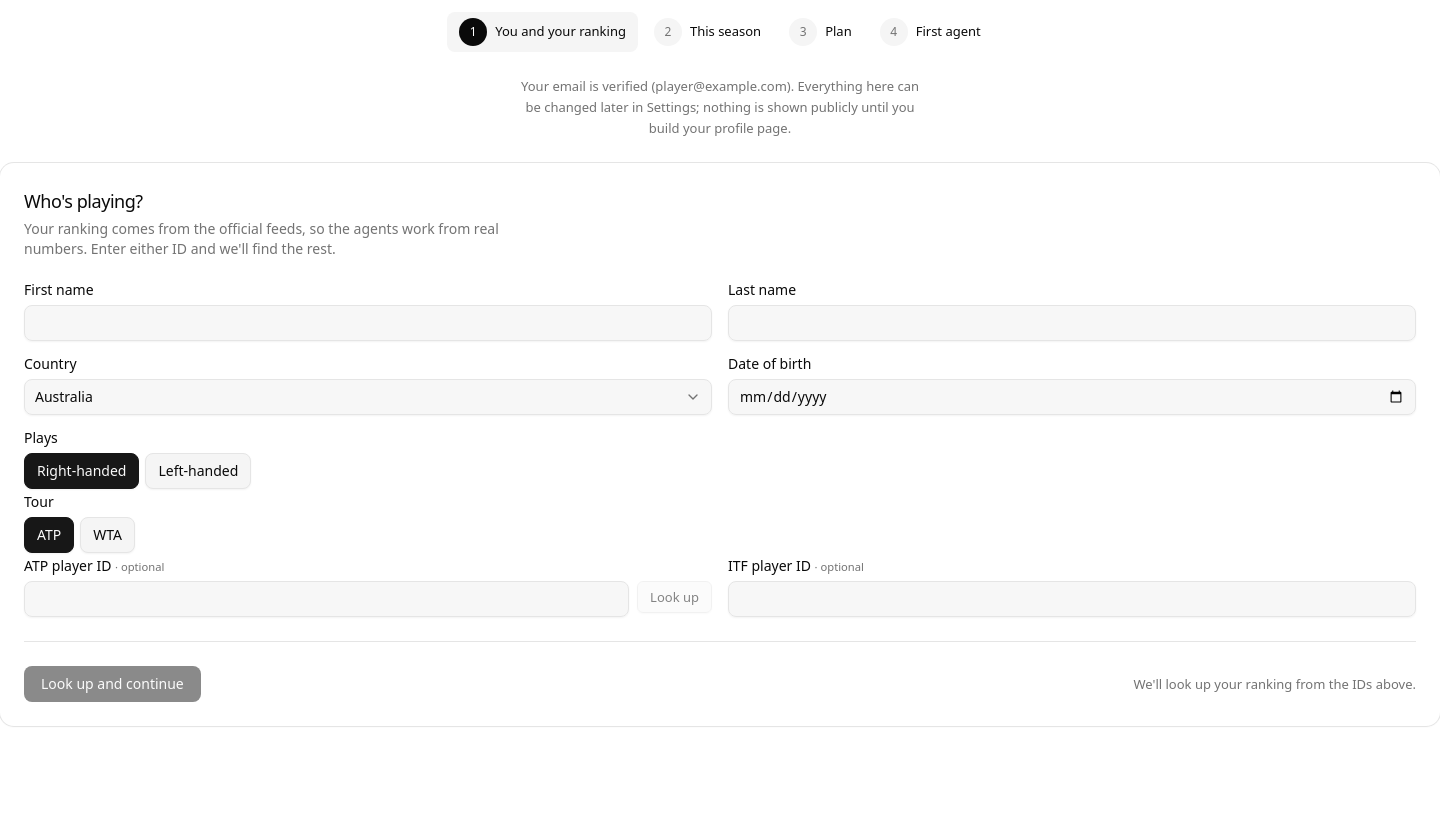
it: OnboardingWizard — guardian gate (M-ID-3, OB-6) › does not require a guardian email for an adult
Type "Arya" into the field labelled "First name".
click(368, 323); type("Arya")  # box [24, 305, 712, 341]
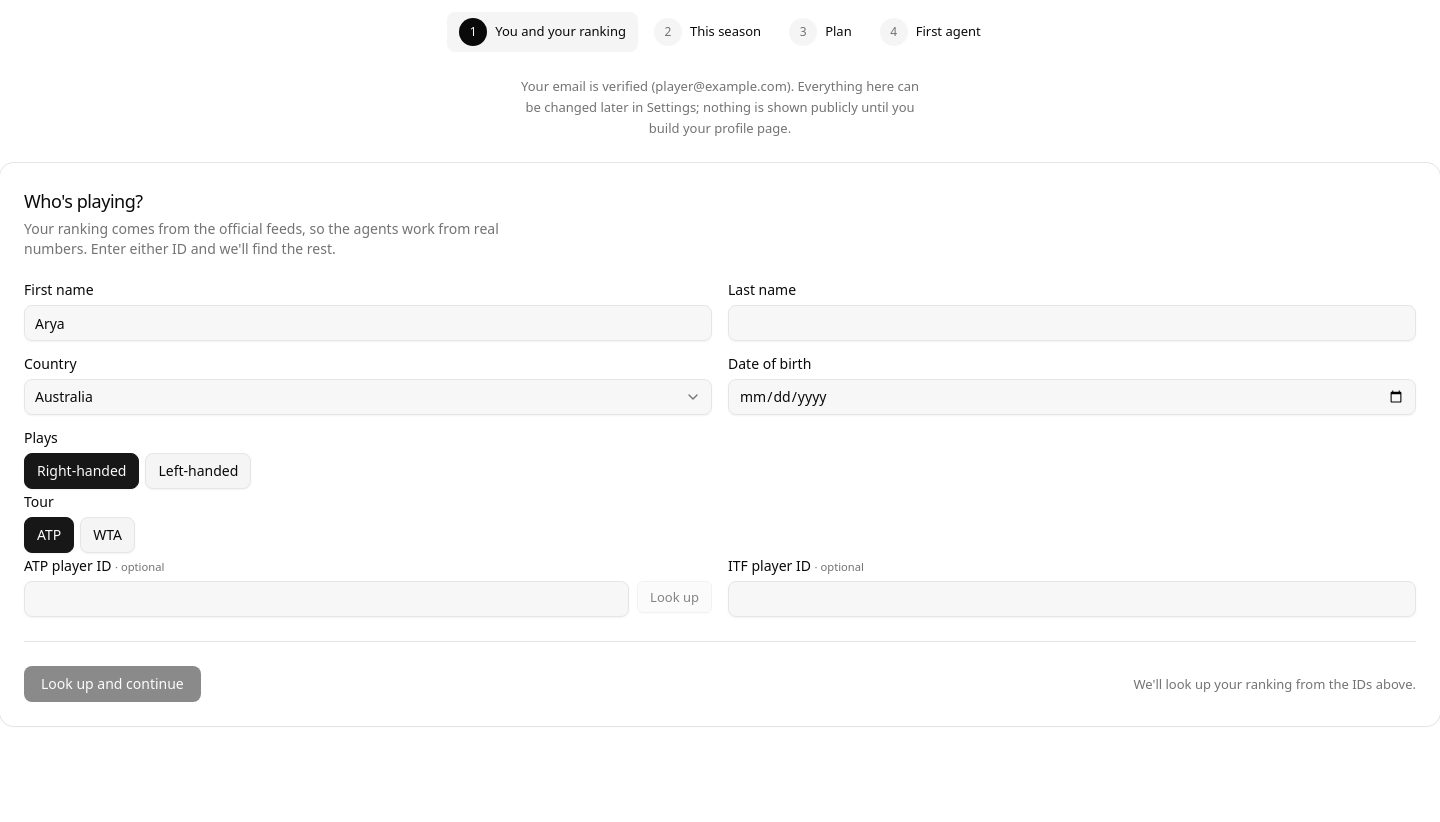
Type "Dubey" into the field labelled "Last name".
click(1072, 323); type("Dubey")  # box [728, 305, 1416, 341]
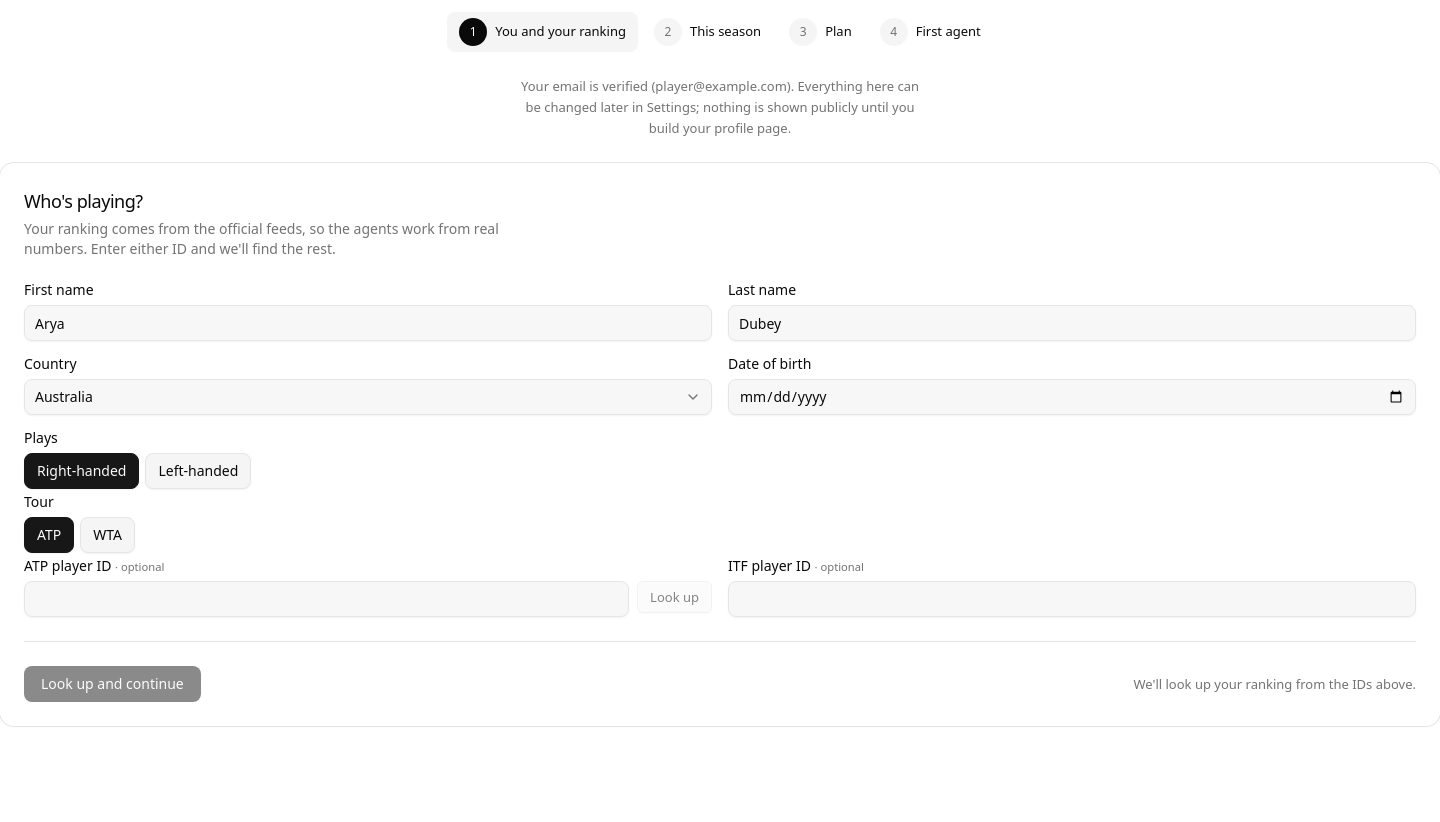
Type "1998-02-14" into the date field labelled "Date of birth".
click(1072, 397); type("1998-02-14")  # box [728, 379, 1416, 415]
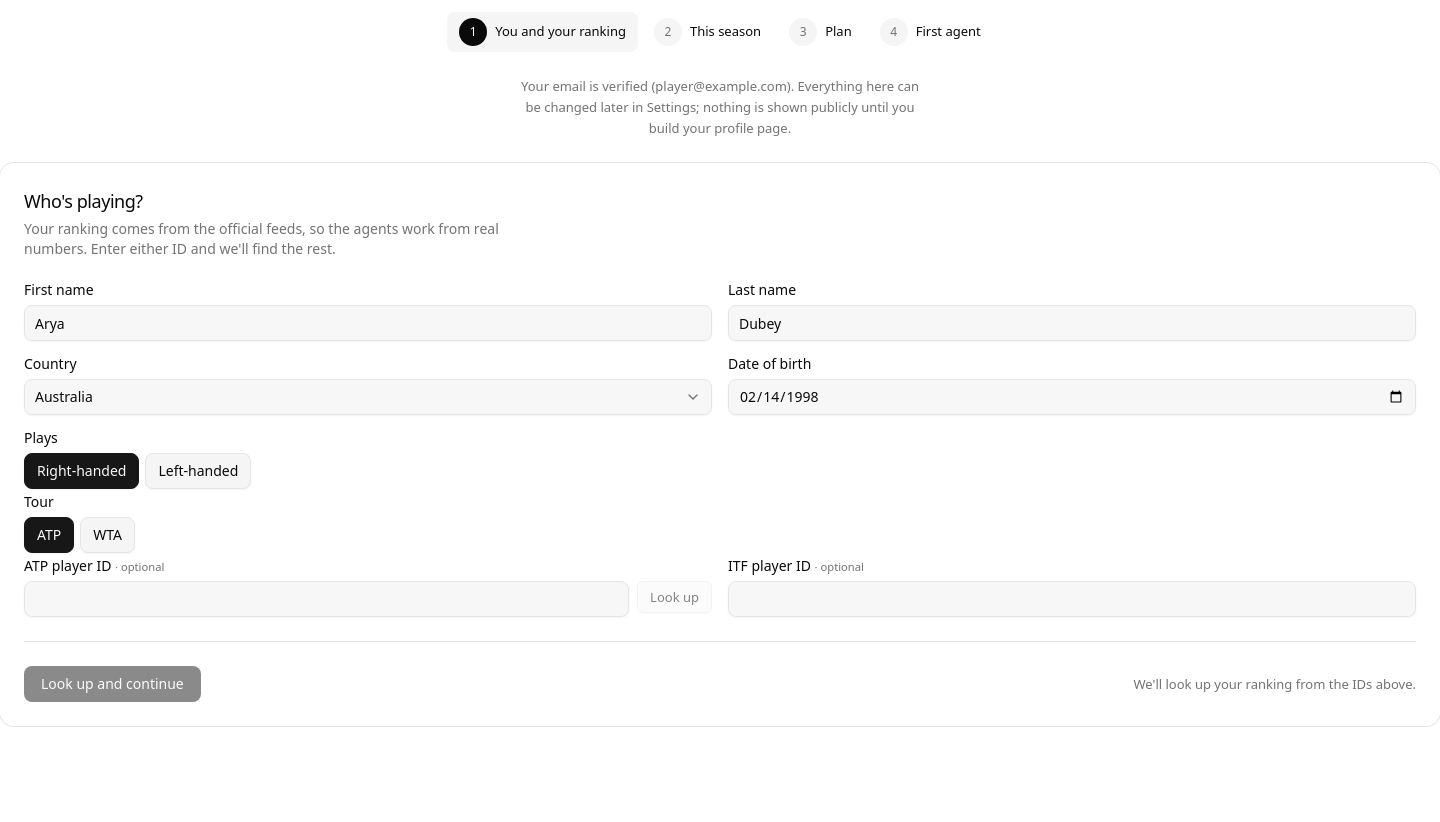
Type "B0AH" into the field labelled "ATP player ID · optional".
click(327, 599); type("B0AH")  # box [24, 581, 629, 617]
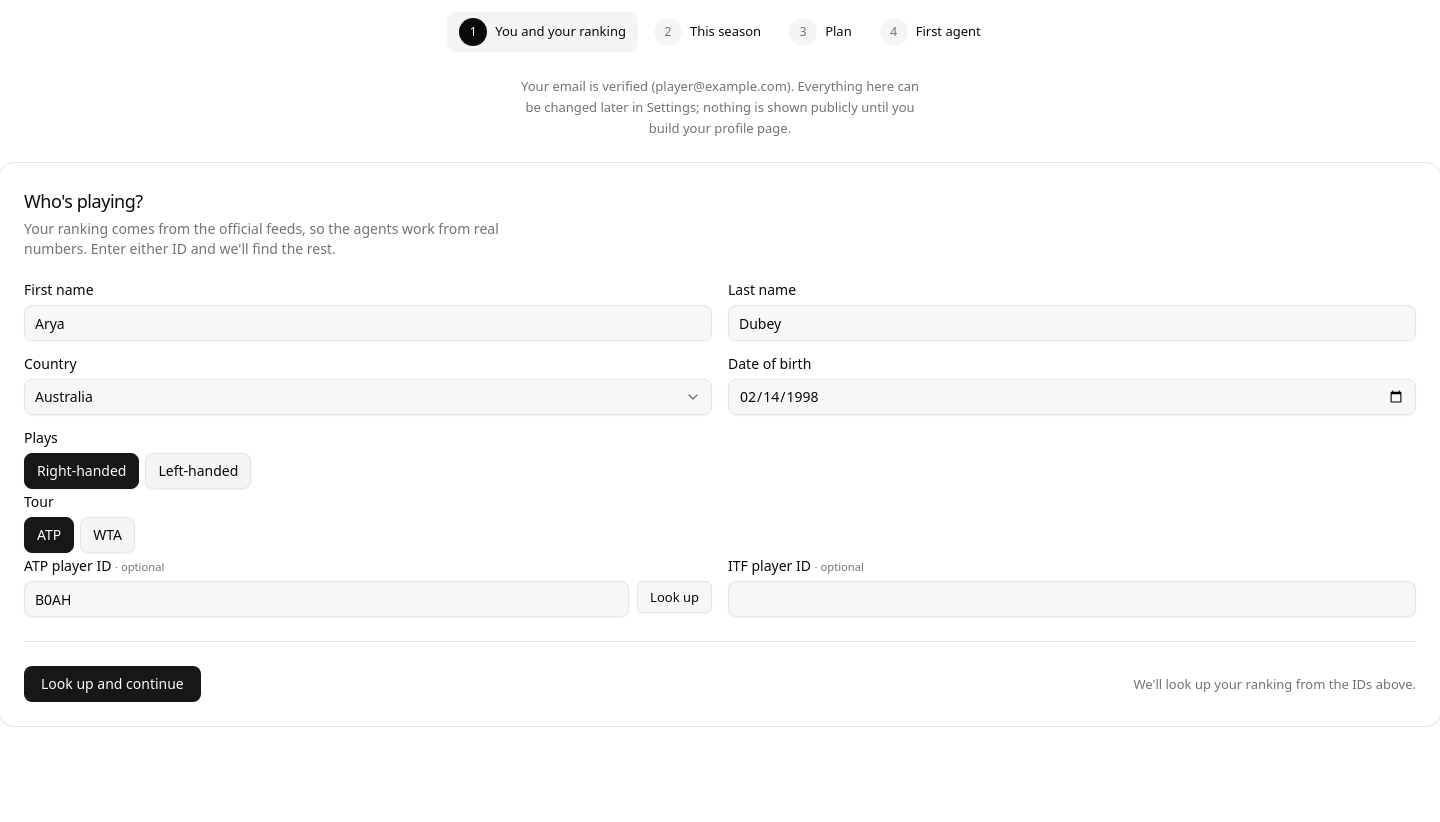
Click the button "Look up and continue".
click(112, 684)  # box [24, 666, 201, 702]
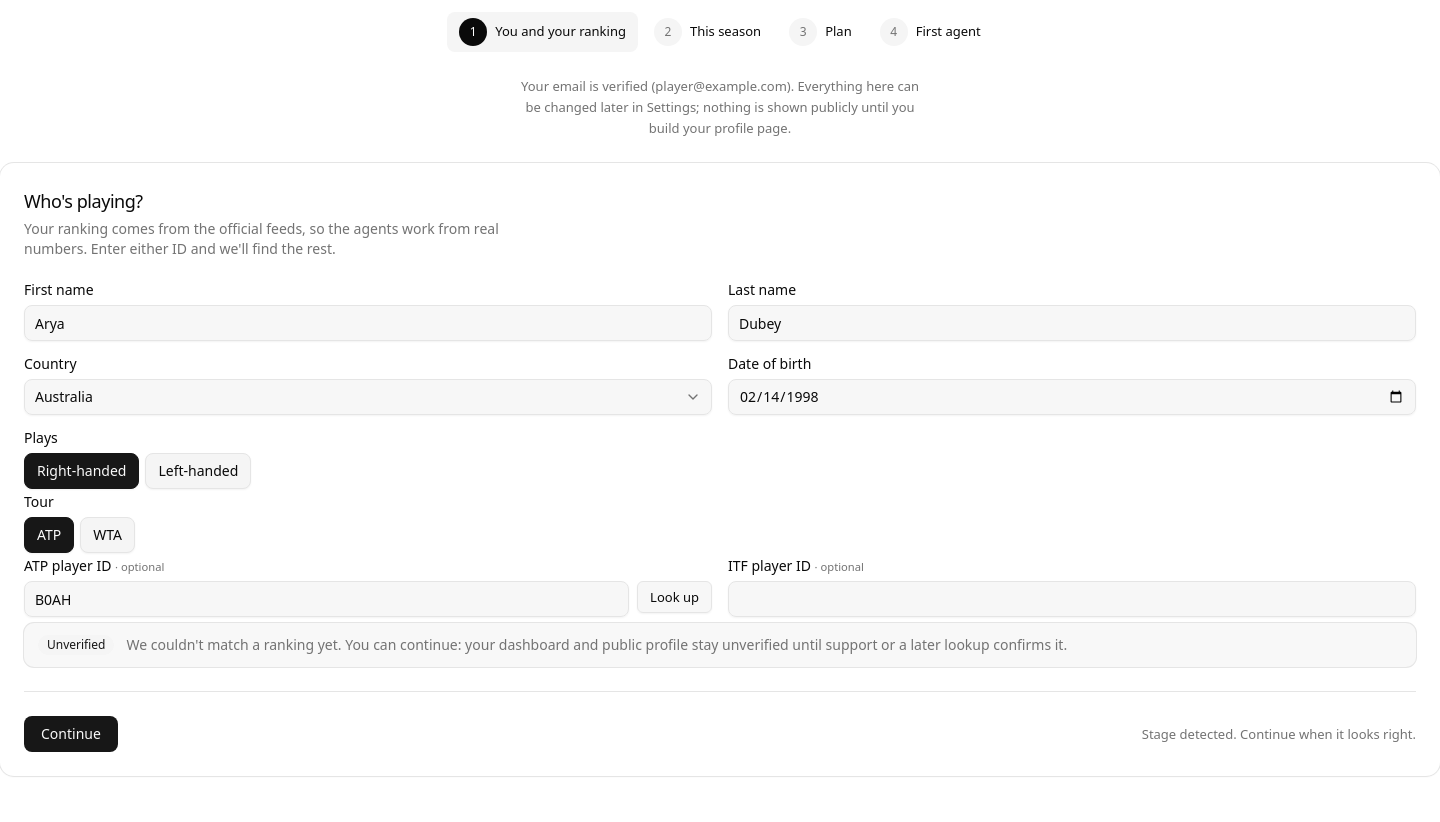
Check: the text "Unverified" is shown, box [38, 635, 114, 655]
Click the button "Continue".
click(71, 734)  # box [24, 716, 118, 752]
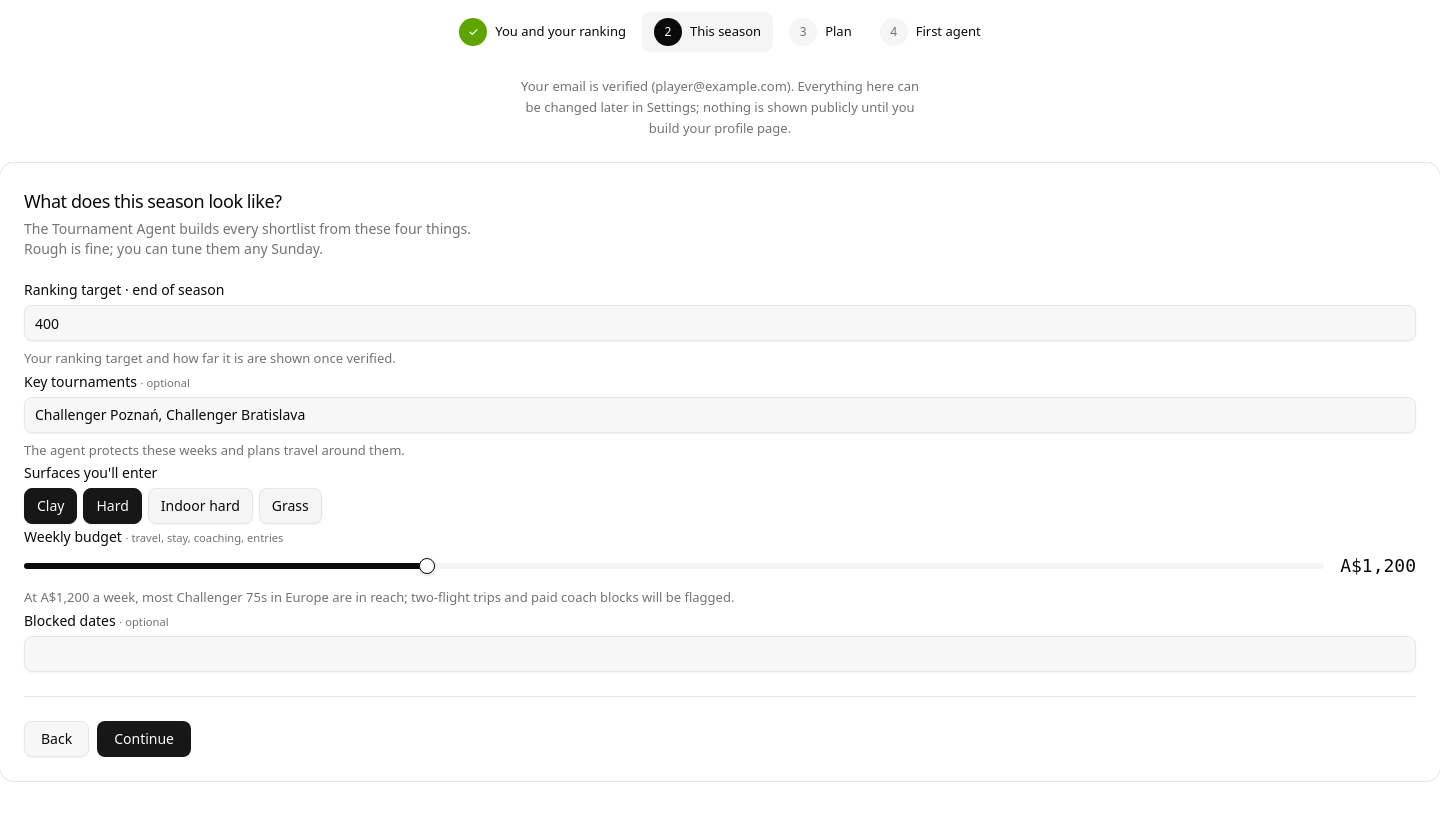
Check: the heading "What does this season look like?" is shown, box [24, 189, 282, 213]
